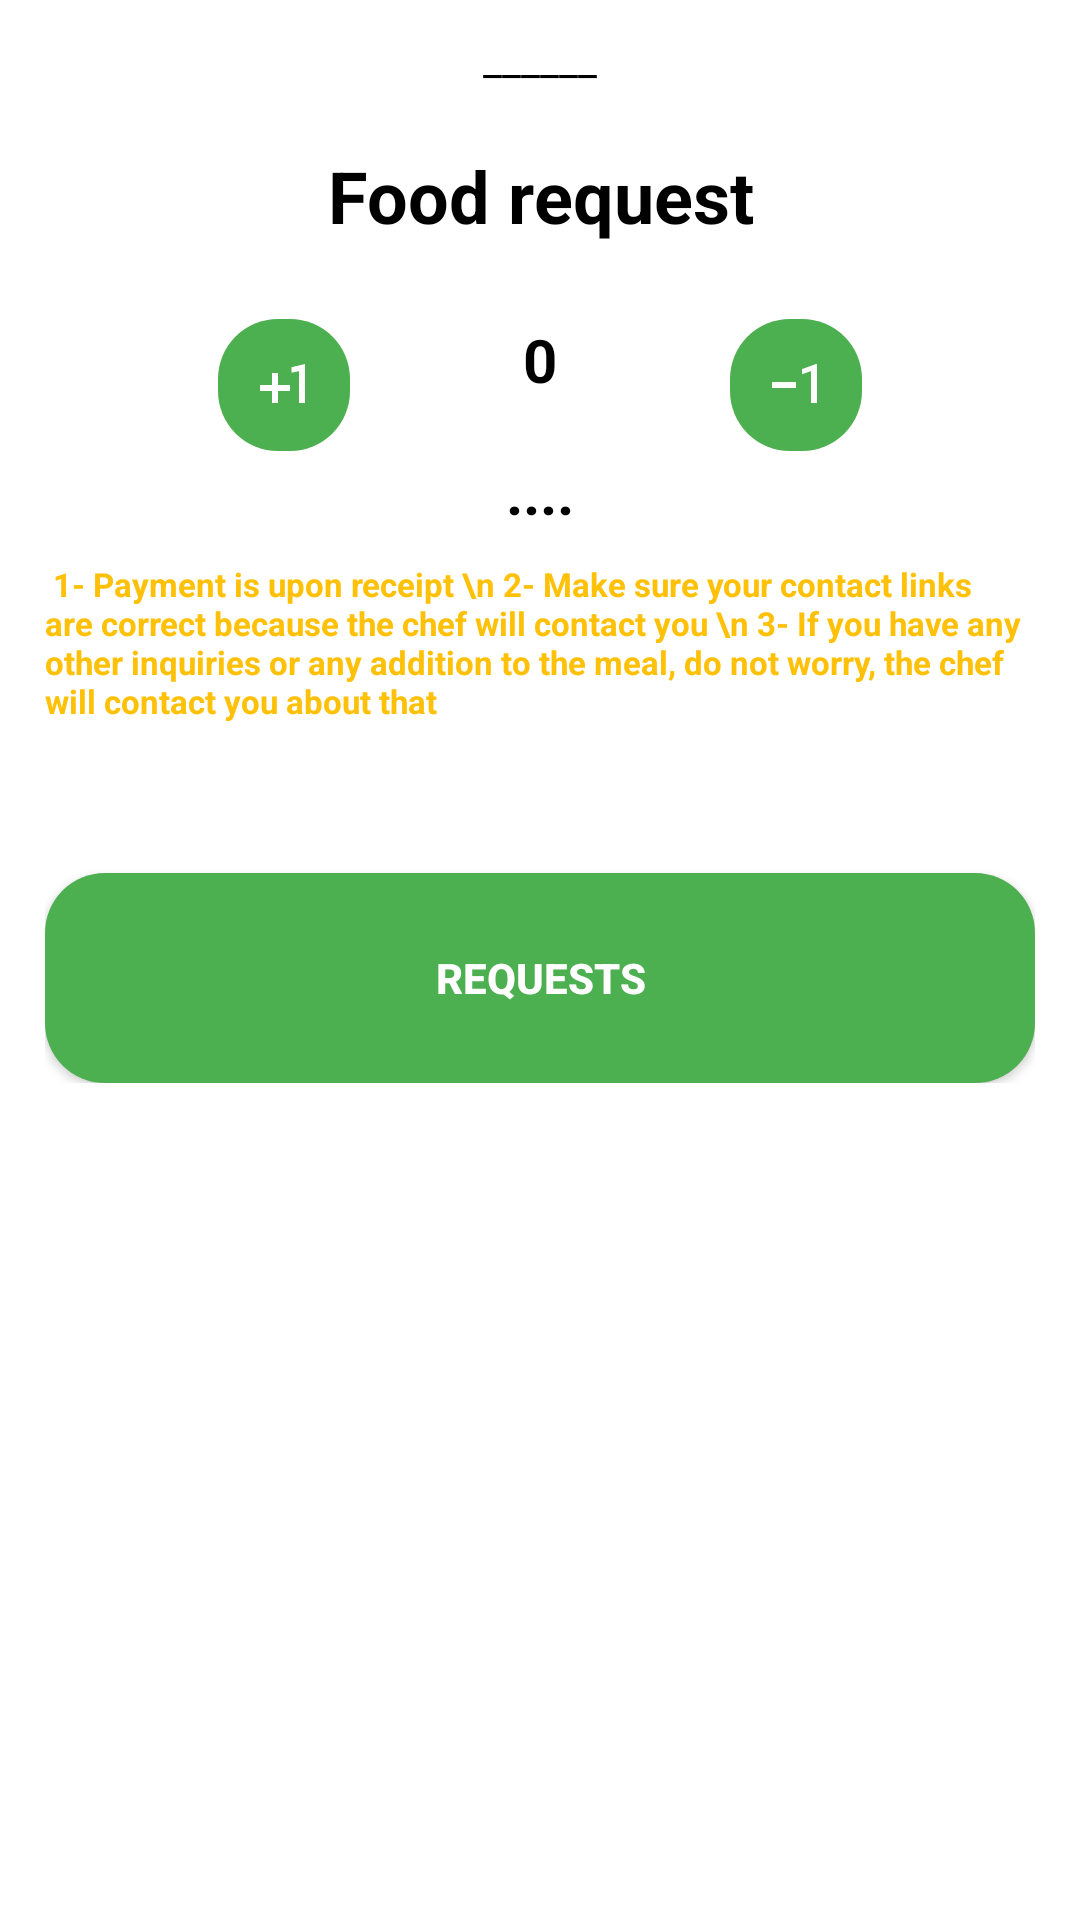

Named icons in this screenshot (1080 x 1920) and their bounding boxes, rect(x1, y1, x2, y2):
exposure neg: rect(730, 319, 862, 451)
